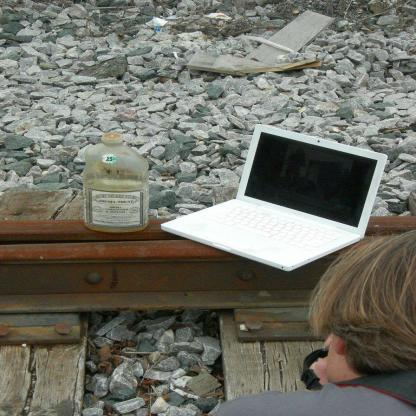board: (161, 124, 387, 272), (80, 132, 150, 232)
